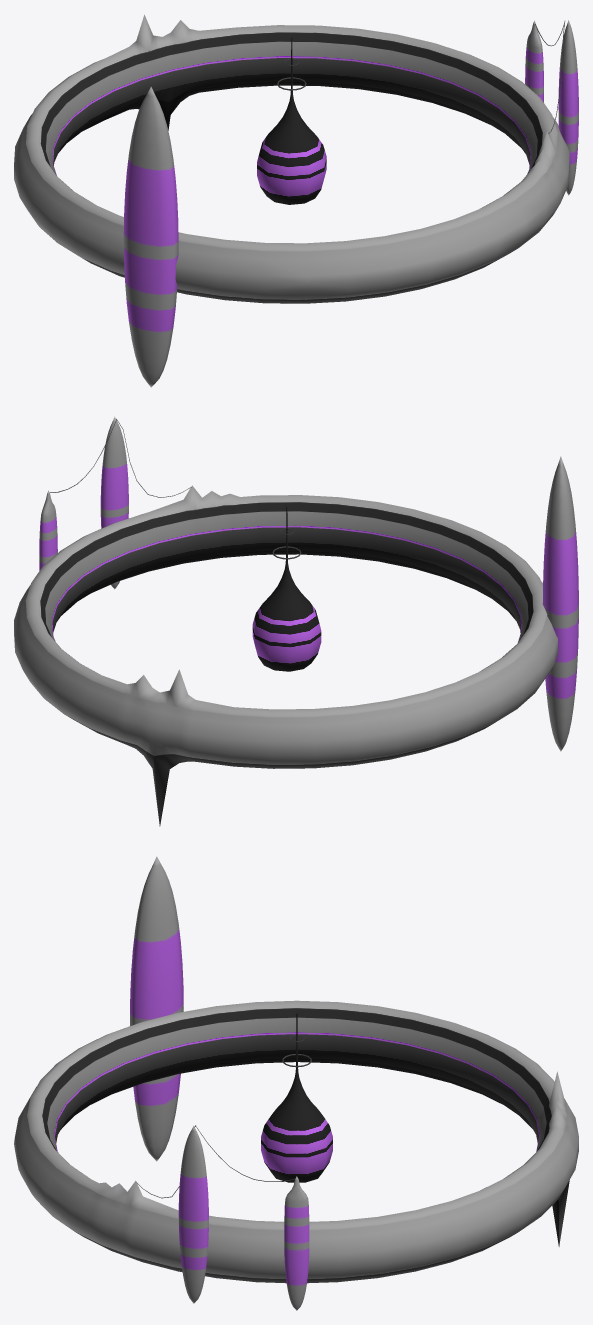
File: floatingProp.fbx
3 renders of one model, top to bottom at view 1: azimuth 30°, elevation 25°; view 2: azimuth 150°, elevation 25°; view 3: azimuth 270°, elevation 25°, orthographic. The views are drawn at different scales.
Visible parts, largest first — view 1: base_MESH, spire1_MESH, pSphere1, spire2_MESH, spire3_MESH; view 2: base_MESH, spire1_MESH, pSphere1, spire2_MESH, spire3_MESH; view 3: base_MESH, spire1_MESH, pSphere1, spire2_MESH, spire3_MESH.
Part boxes in pixels (x1,y1,x2,y2): base_MESH: (14, 14, 569, 303); spire1_MESH: (123, 86, 178, 387); pSphere1: (257, 37, 326, 204); spire2_MESH: (558, 20, 578, 195); spire3_MESH: (525, 20, 543, 102); base_MESH: (14, 485, 557, 826); spire1_MESH: (542, 456, 578, 751); pSphere1: (252, 507, 321, 671); spire2_MESH: (100, 416, 128, 589); spire3_MESH: (39, 490, 57, 570); base_MESH: (14, 1000, 578, 1283); spire1_MESH: (130, 856, 183, 1161); pSphere1: (261, 1013, 332, 1182); spire2_MESH: (178, 1125, 208, 1303); spire3_MESH: (284, 1176, 309, 1310).
Bounding box in the file's own units: 8.54 × 5.02 × 8.41.
